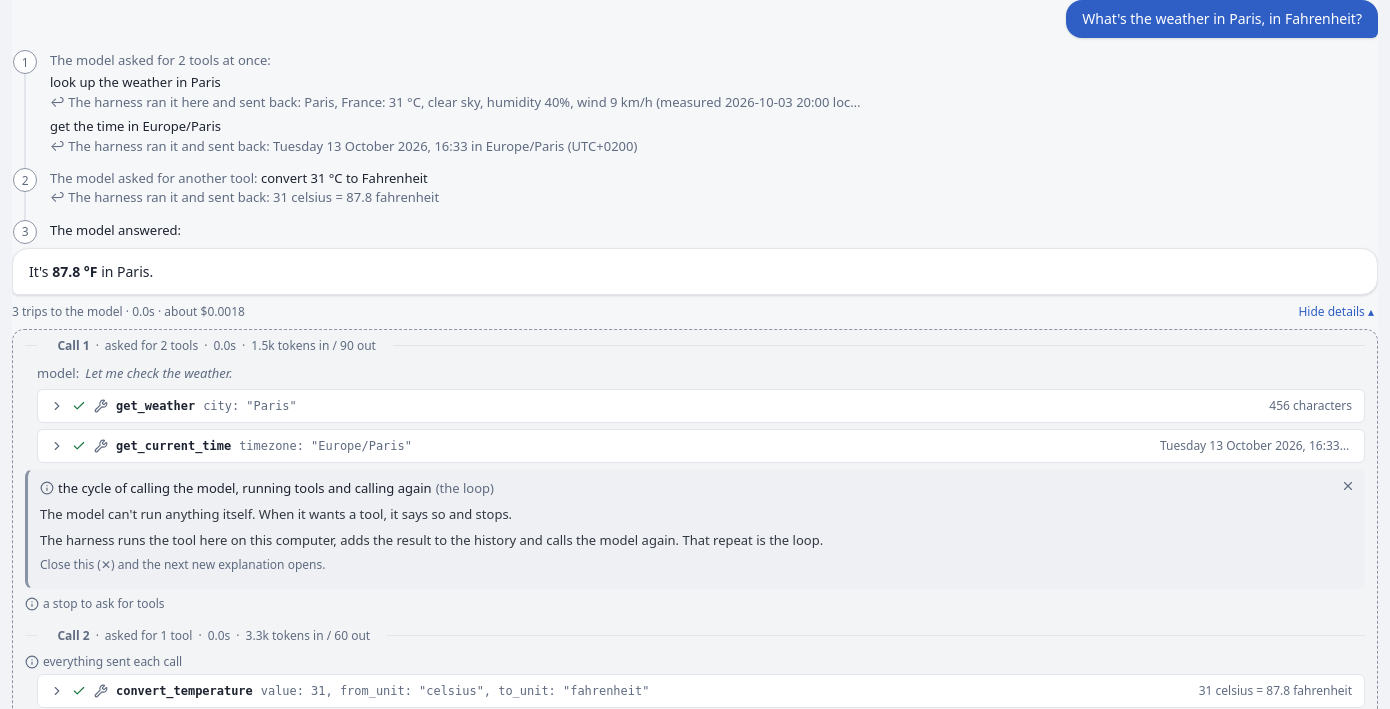
Timeline › an opened row says the harness ran the tool only when it did
Click the text "get_weather".
click(156, 406)  # box x1=116 y1=396 x2=195 y2=416
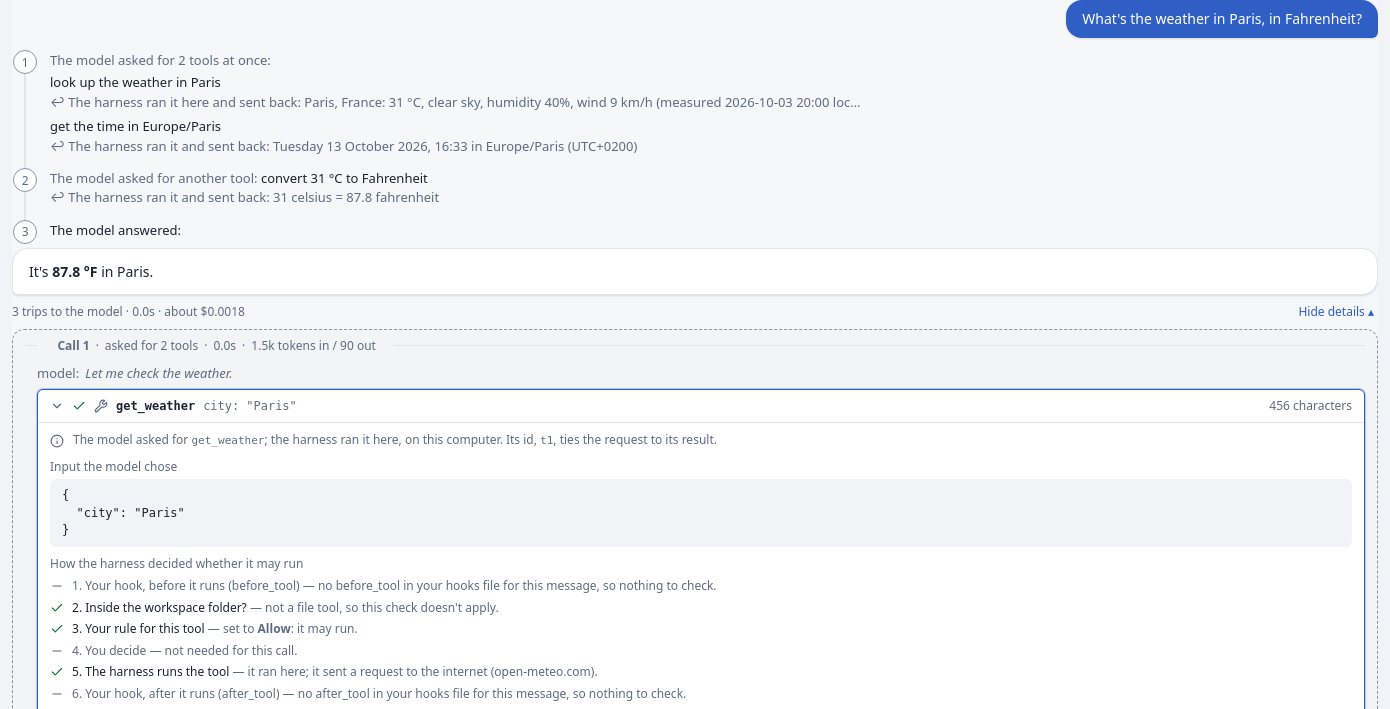
expect the text "the harness ran it here" is shown: met, box x1=271 y1=431 x2=500 y2=448
